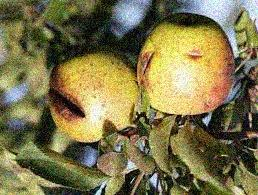rotten apple: (35, 23, 140, 145), (136, 12, 237, 114)
